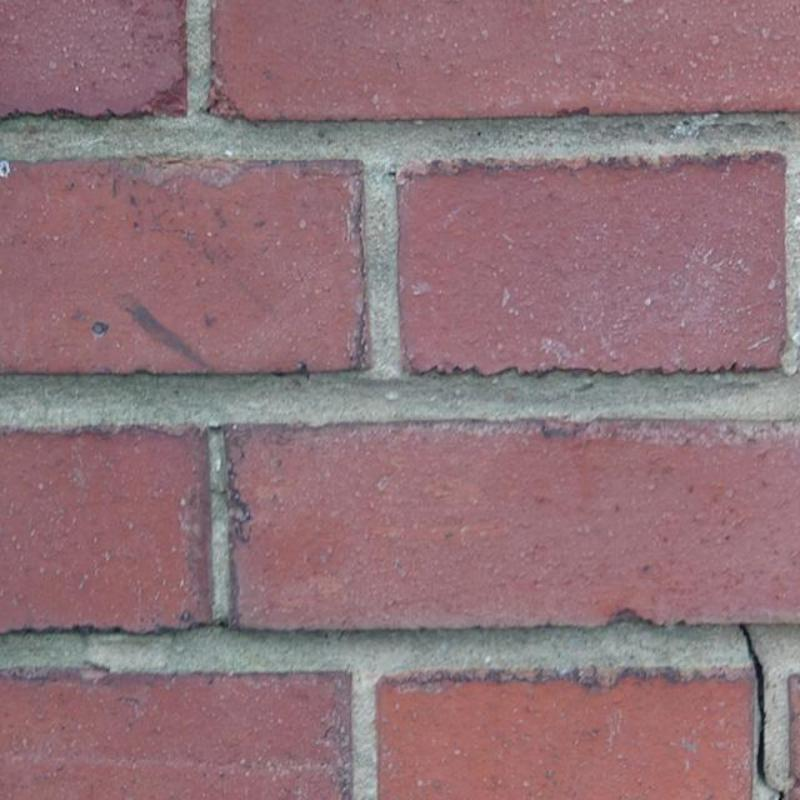crack: (738, 623, 786, 800)
